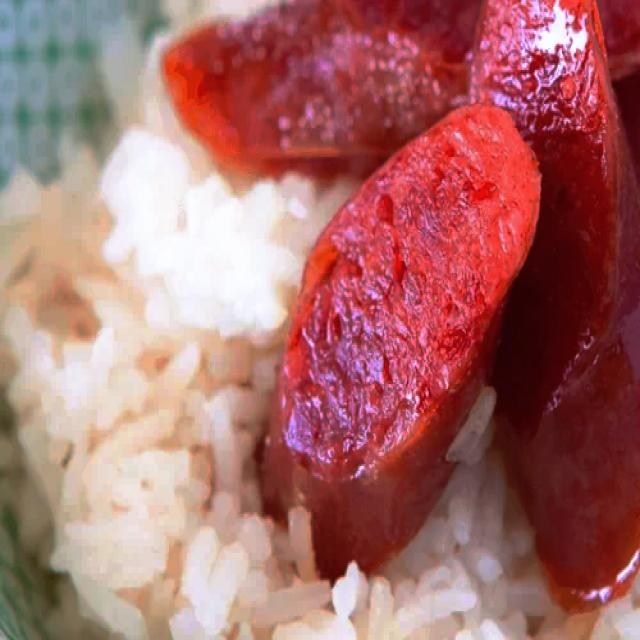chinese_sausage: (264, 101, 541, 578), (468, 0, 640, 608), (161, 0, 640, 175)
rice: (3, 149, 260, 640), (264, 556, 552, 640), (449, 470, 507, 587)
